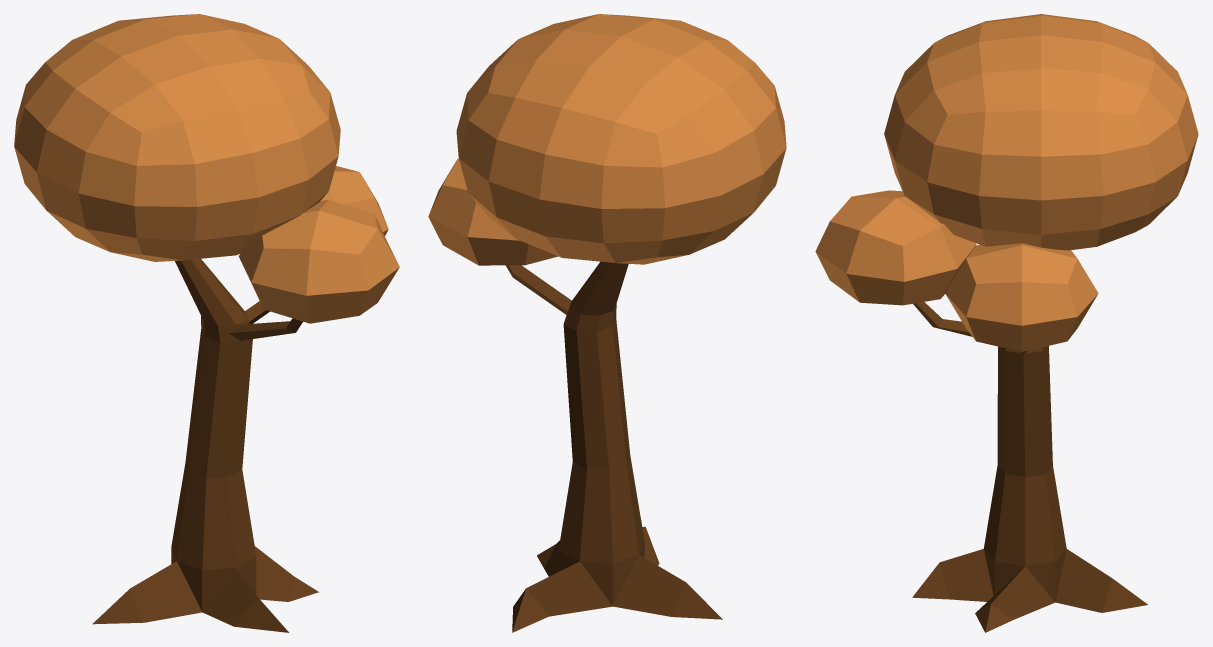
The model's file is tree_5.fbx.
3 renders of one model, left to right at view 1: azimuth 30°, elevation 25°; view 2: azimuth 150°, elevation 25°; view 3: azimuth 270°, elevation 25°, orthographic. The views are drawn at different scales.
Visible parts, largest first — view 1: Cube.001, Cube, Cube.003, Cube.002; view 2: Cube.001, Cube, Cube.002; view 3: Cube.001, Cube, Cube.003, Cube.002.
Boxes of the visible parts, bbox=[...] form: Cube.001: bbox=[14, 14, 340, 261]; Cube: bbox=[92, 258, 318, 632]; Cube.003: bbox=[239, 200, 399, 323]; Cube.002: bbox=[321, 166, 388, 235]; Cube.001: bbox=[456, 14, 786, 264]; Cube: bbox=[505, 261, 722, 632]; Cube.002: bbox=[428, 158, 557, 265]; Cube.001: bbox=[884, 14, 1198, 250]; Cube: bbox=[912, 302, 1147, 632]; Cube.003: bbox=[815, 190, 976, 305]; Cube.002: bbox=[945, 243, 1098, 351].
Bounding box in the file's own units: 819 × 1328 × 847.
